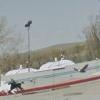Boat: (5, 57, 99, 100)
